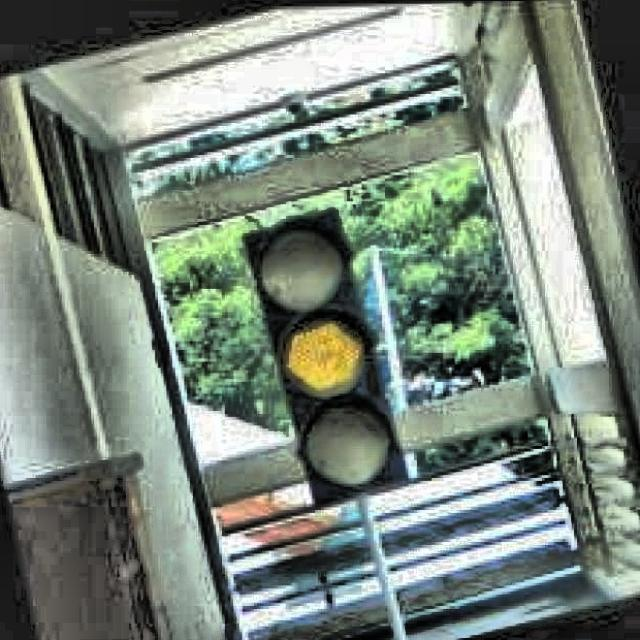yellow: (248, 214, 393, 508)
